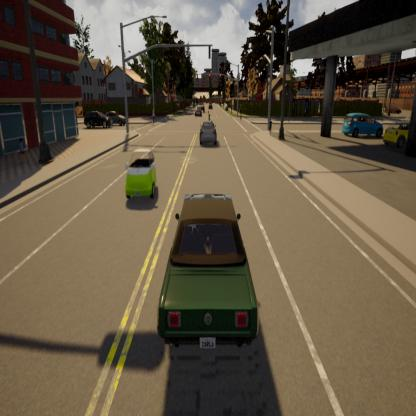Cars: (155, 175, 268, 373), (104, 138, 161, 206), (340, 109, 390, 134), (380, 119, 416, 148), (196, 117, 220, 148), (104, 101, 130, 125), (85, 107, 112, 124), (192, 105, 204, 115)
Pedestrian: (238, 96, 247, 122), (151, 106, 158, 127), (207, 107, 213, 128)
